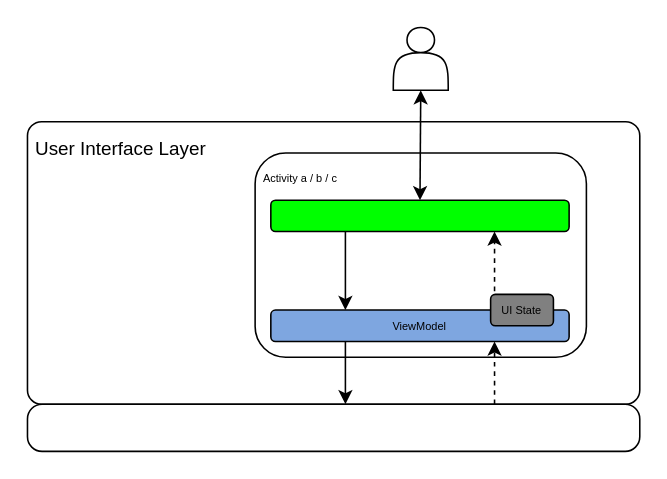
The diagram is 667 pixels wide and 479 high, and some of its shapes have lost their labels. The shapes that lost their labels are listed below. From the top down, each one's centre as x and y in pixels, then its label:
At pixel 419 215: "User Interface Elements".
At pixel 333 427: "Domain Layer".
